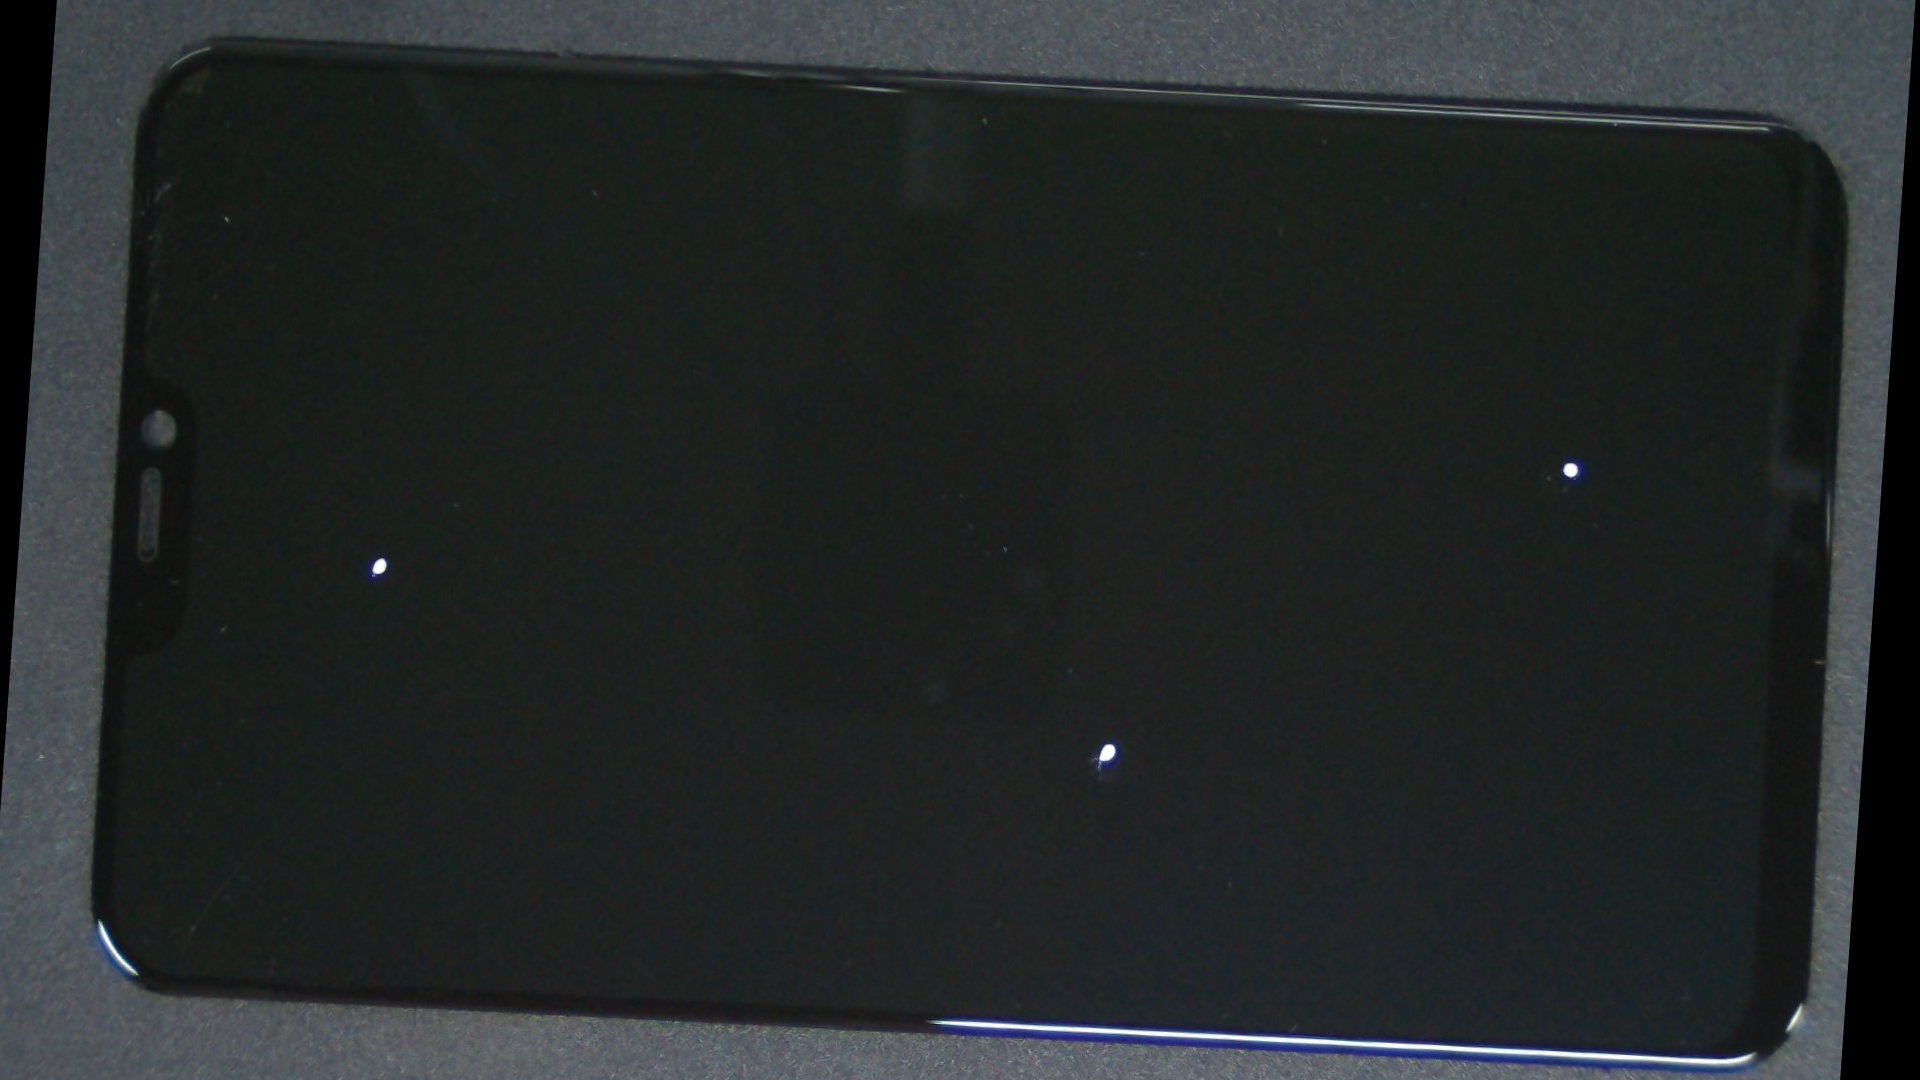oil: (534, 299, 1693, 1080), (782, 158, 1899, 731), (178, 207, 588, 906)
